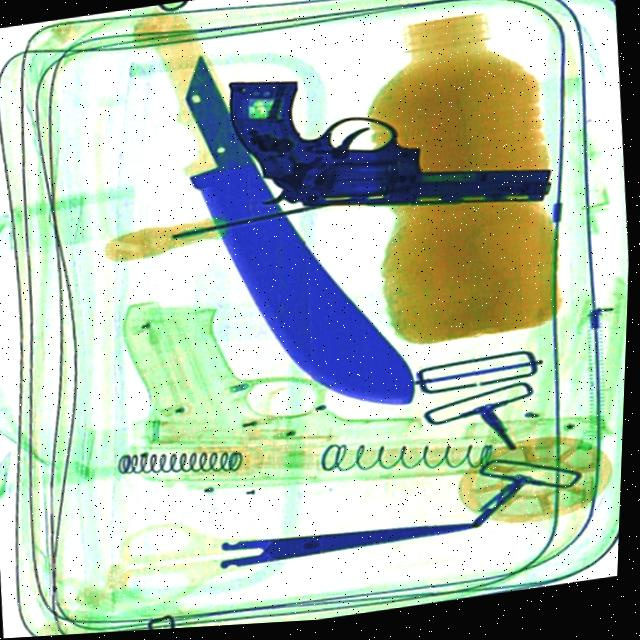knife: (168, 30, 433, 440), (219, 510, 482, 576)
pistol: (114, 255, 522, 527), (220, 38, 563, 250)
